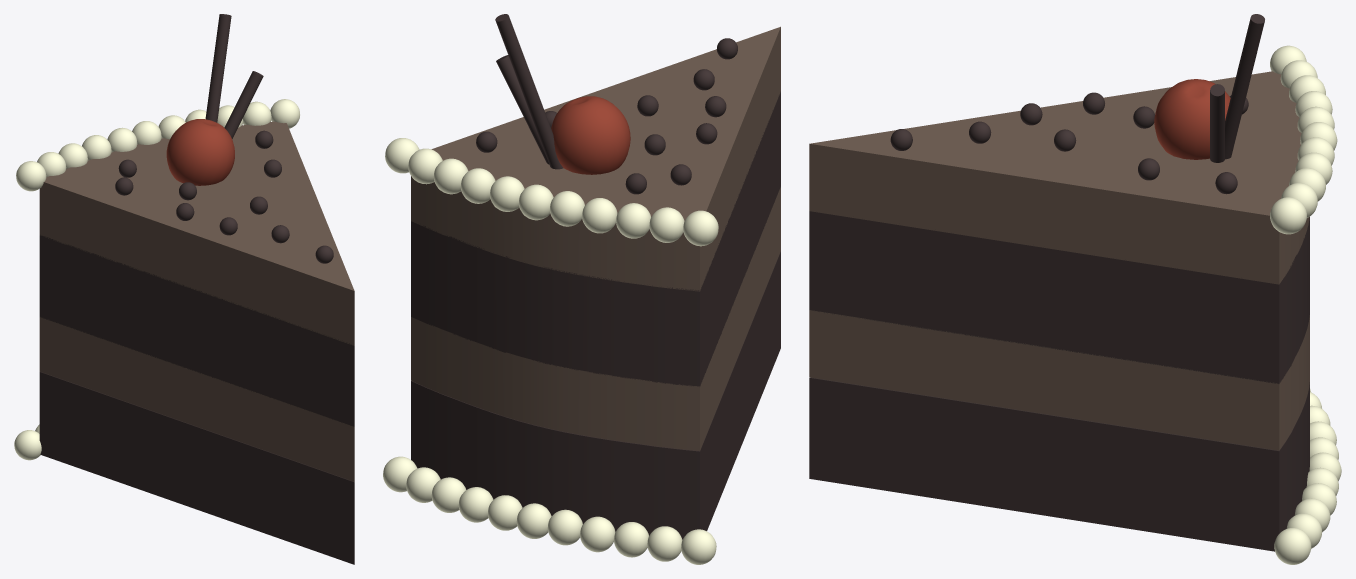
The picture shows the model from 3 angles, left to right: view 1: azimuth 30°, elevation 25°; view 2: azimuth 150°, elevation 25°; view 3: azimuth 270°, elevation 25°; orthographic projection. The views are drawn at different scales.
Visible parts, largest first — view 1: pCube1, pCube4, pCube3, pCube2, pSphere1, pSphere12 (×2), pCylinder2, pCylinder1, pSphere7, pSphere8, pSphere9, pSphere2 (+3 smaller); view 2: pCube1, pCube3, pCube4, pCube2, pSphere1, pCylinder2, pSphere12 (×2), pSphere11 (×2), pSphere9 (×2), pSphere10 (×2), pSphere8 (×2), pSphere2 (×2) (+6 smaller); view 3: pCube1, pCube4, pCube3, pCube2, pSphere1, pSphere7 (×2), pCylinder2, pSphere6 (×2), pCylinder1.
Part boxes in pixels (x1,y1,x2,y2): pCube1: (39,121,354,345); pCube4: (39,372,354,564); pCube3: (39,234,354,426); pCube2: (39,317,354,481); pSphere1: (166,119,234,185); pSphere12 (×2): (14,161,46,460); pCylinder2: (205,14,231,122); pCylinder1: (224,71,263,138); pSphere7: (270,99,299,128); pSphere8: (107,127,137,152); pSphere9: (82,135,111,160); pSphere2: (132,121,161,144); pCube1: (411,26,780,291); pCube3: (411,91,780,386); pCube4: (411,251,780,539); pCube2: (411,187,780,450); pSphere1: (551,96,630,174); pCylinder2: (495,14,563,169); pSphere12 (×2): (681,210,718,564); pSphere11 (×2): (647,207,684,561); pSphere9 (×2): (580,198,617,552); pSphere10 (×2): (614,203,650,557); pSphere8 (×2): (547,191,584,545); pSphere2 (×2): (516,184,553,538); pCube1: (809,71,1309,284); pCube4: (809,377,1309,551); pCube3: (809,211,1309,383); pCube2: (809,310,1309,450); pSphere1: (1154,79,1230,159); pSphere7 (×2): (1270,197,1311,564); pCylinder2: (1225,14,1264,159); pSphere6 (×2): (1281,183,1322,548); pCylinder1: (1210,84,1224,162).
Bounding box in the file's own units: 1.06 × 1.49 × 1.43.
